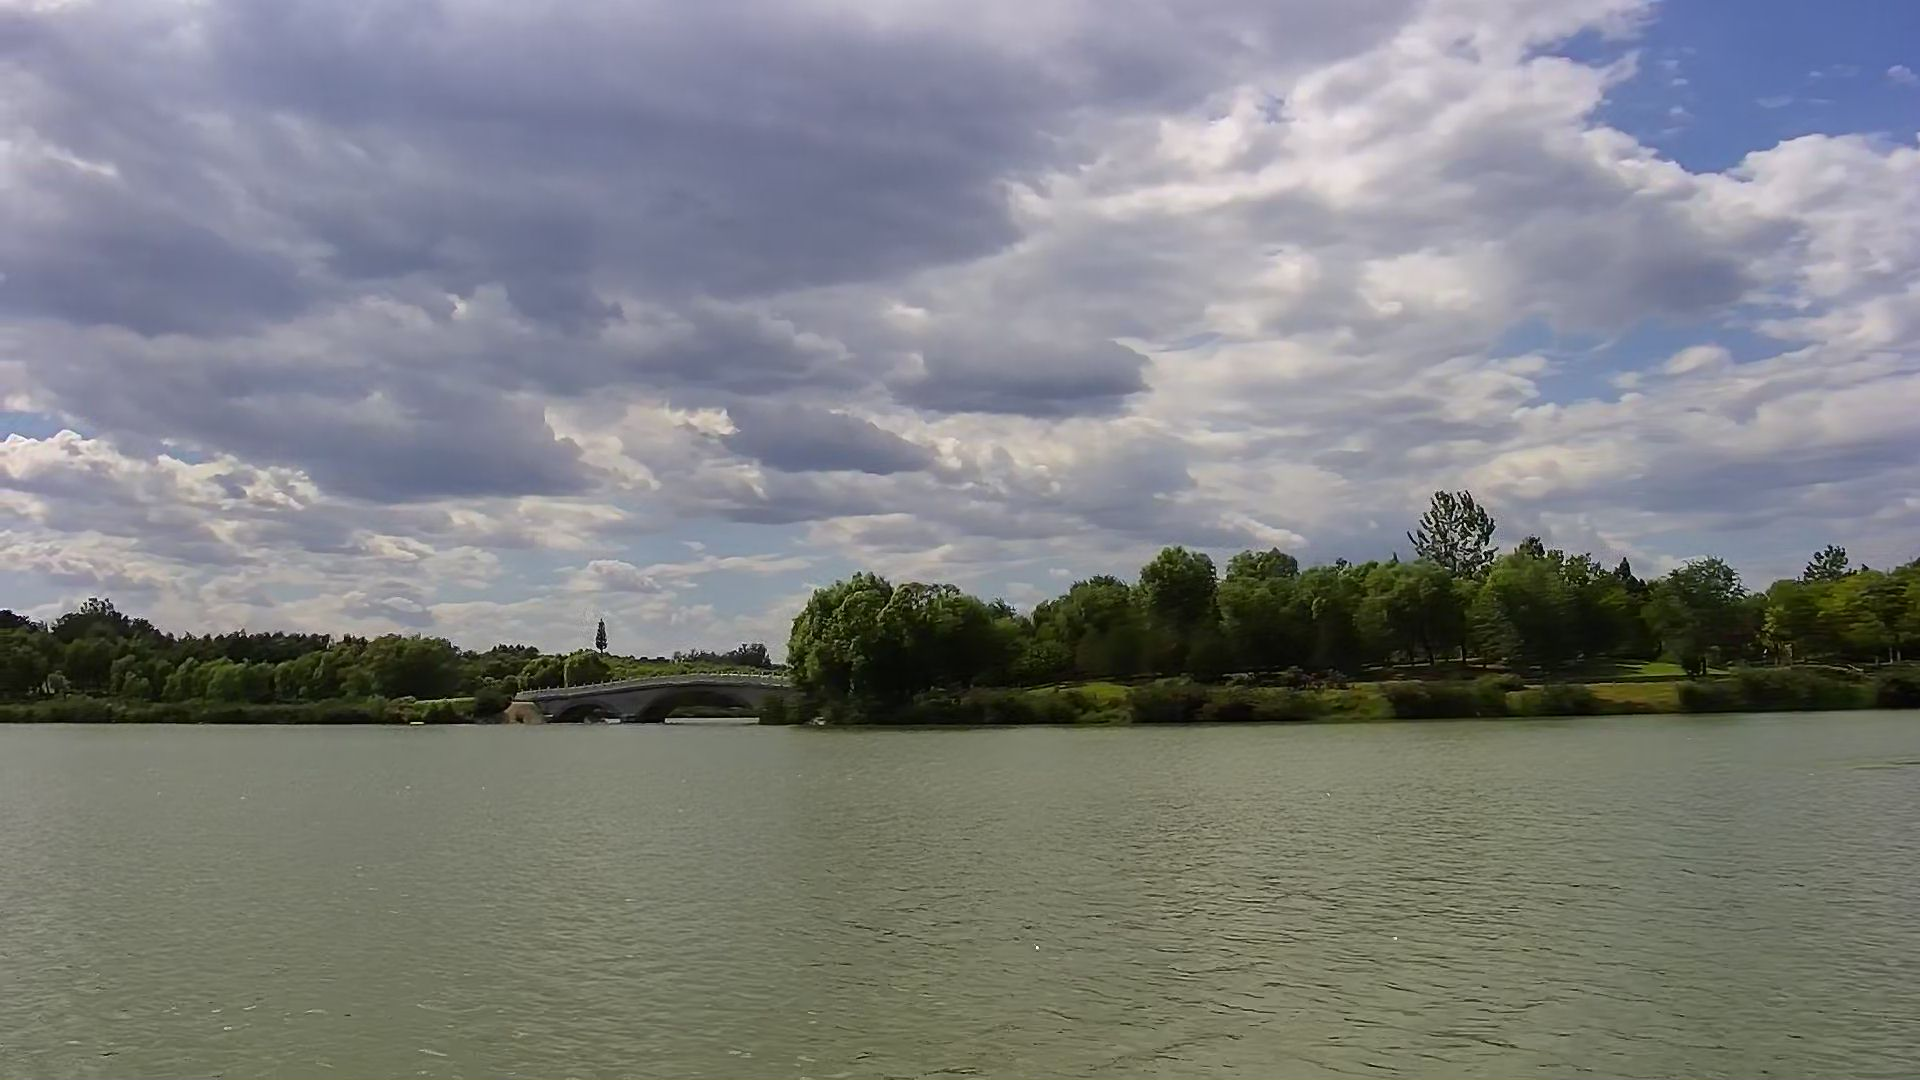bridge: (549, 673, 812, 728)
